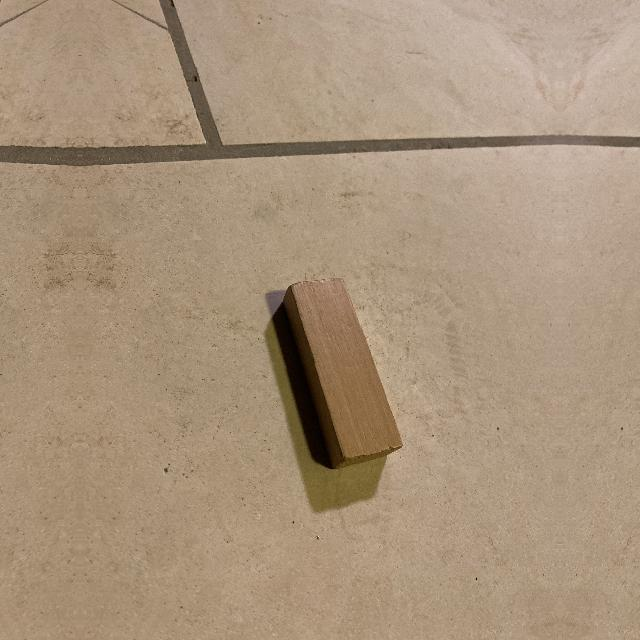red block: (283, 279, 403, 469)
